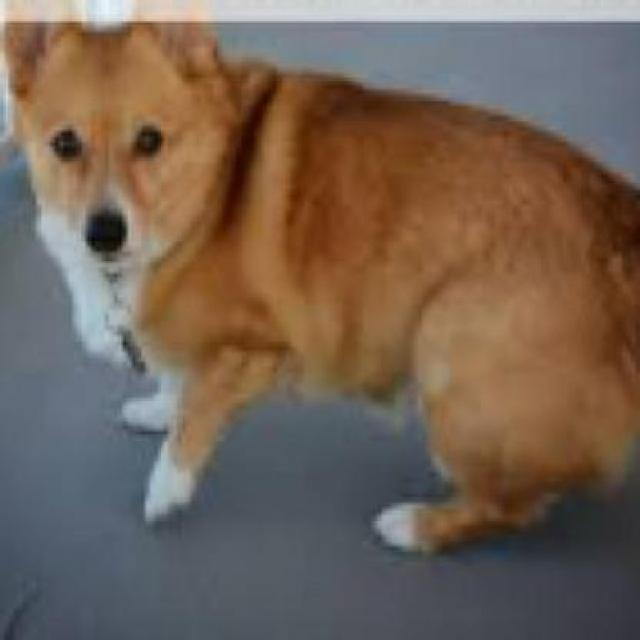Dog: (1, 23, 638, 639)
